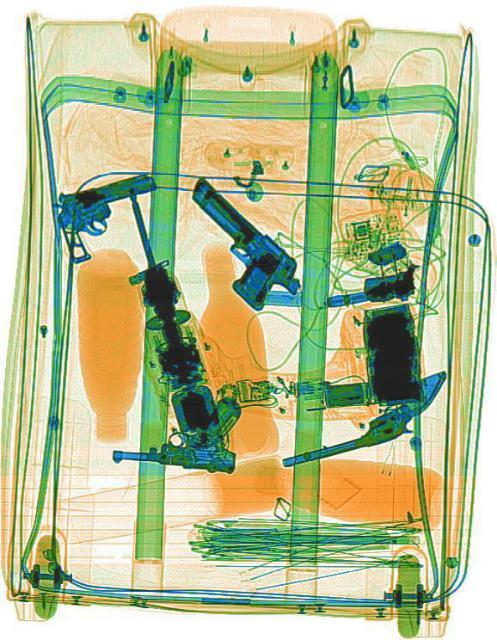Gun: (166, 175, 307, 325), (272, 368, 452, 468), (110, 384, 240, 474), (52, 167, 165, 266), (358, 262, 418, 302)
